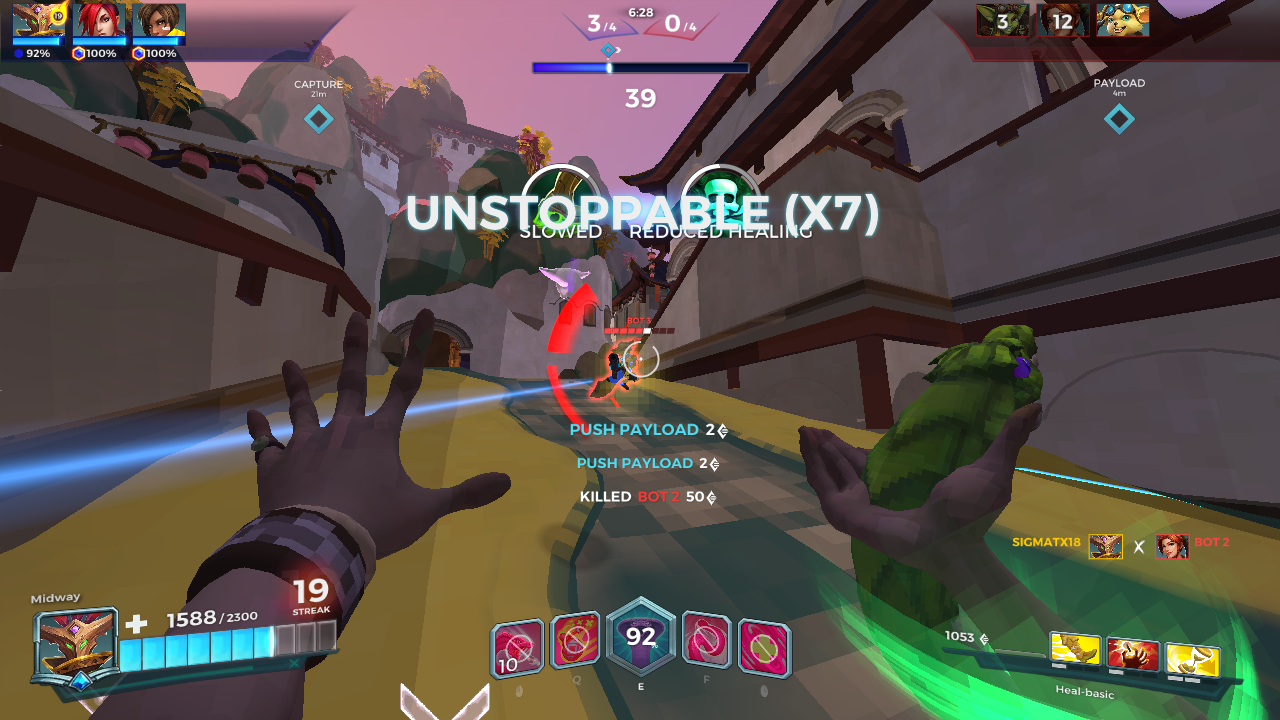model: (603, 337, 642, 391)
